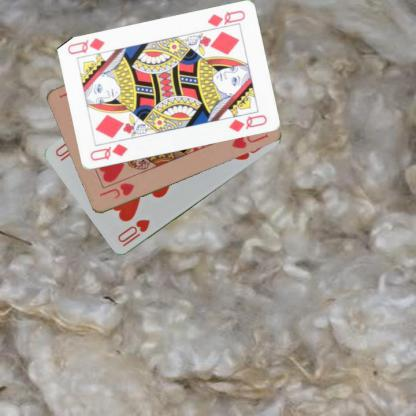10h: (115, 216, 151, 248)
Jh: (96, 180, 136, 200)
Qd: (204, 8, 246, 33), (87, 141, 129, 162)
